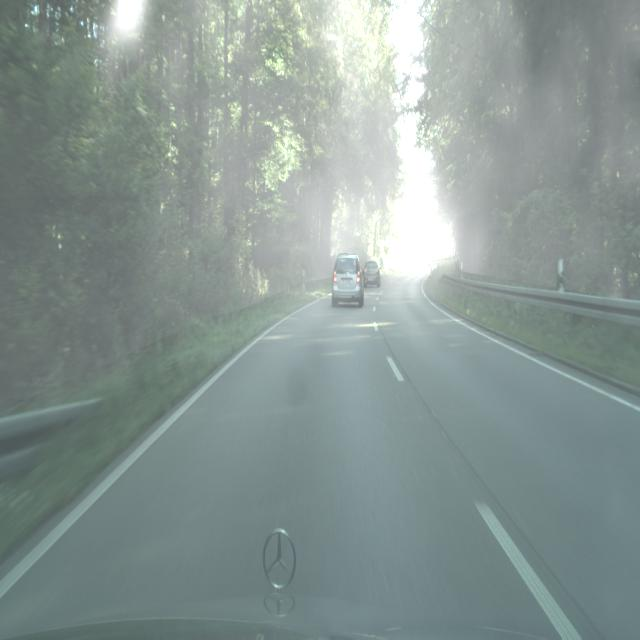bus: (331, 252, 365, 308), (363, 260, 381, 288), (425, 256, 432, 268), (412, 260, 418, 272)
